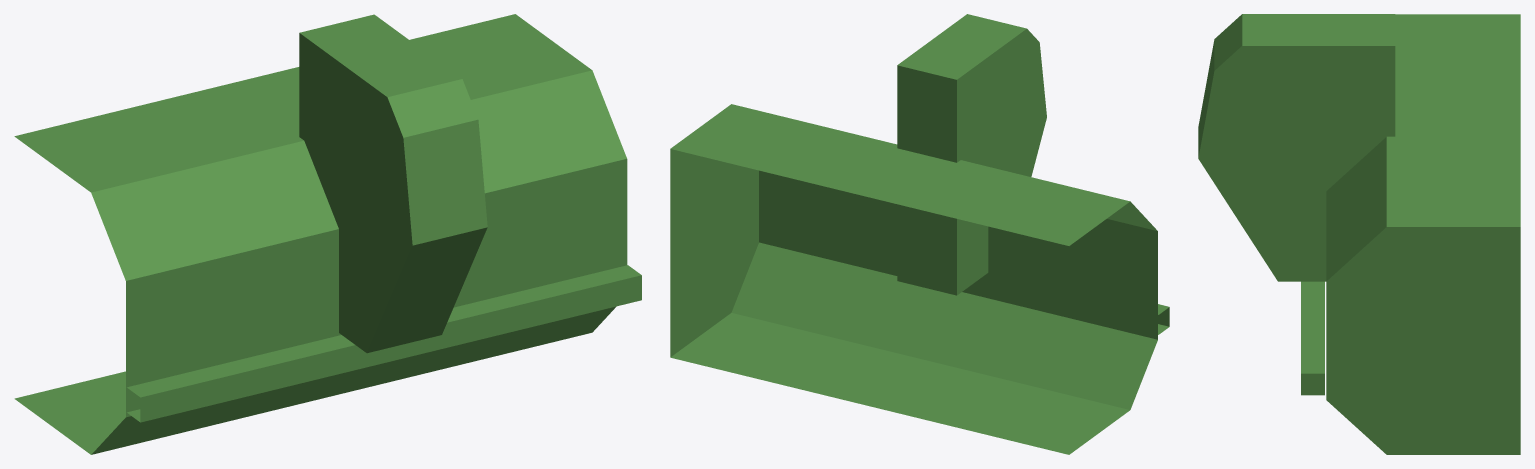
The model's file is parapet 1short.FBX.
3 renders of one model, left to right at view 1: azimuth 30°, elevation 25°; view 2: azimuth 150°, elevation 25°; view 3: azimuth 270°, elevation 25°, orthographic. The views are drawn at different scales.
Visible parts, largest first — view 1: Object360; view 2: Object360; view 3: Object360.
Boxes of the visible parts, x1,y1,x2,y2 form: Object360: [14, 14, 641, 454]; Object360: [670, 14, 1169, 454]; Object360: [1198, 14, 1520, 454].
Size of the model in its own units: 1 by 0.6987 by 0.6403.
